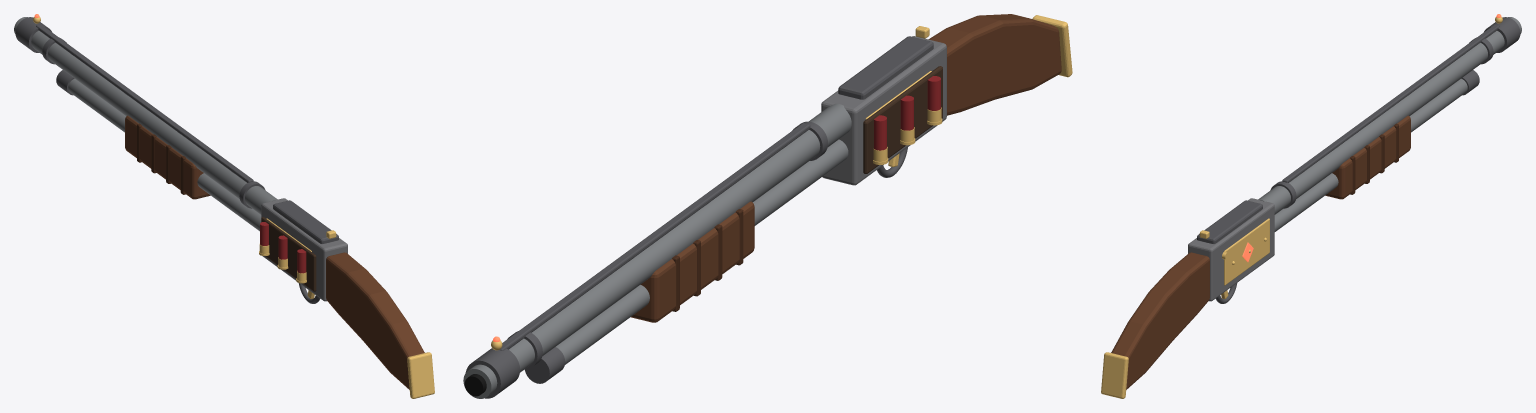
File: shotgun.glb
The picture shows the model from 3 angles, left to right: view 1: azimuth 30°, elevation 25°; view 2: azimuth 150°, elevation 25°; view 3: azimuth 330°, elevation 25°; orthographic projection. The views are drawn at different scales.
Visible parts, largest first — view 1: Stock, Barrel, PumpSlide, MagTube, Receiver, Rib, ShellStrap, ReceiverTop, ButtPlate, MuzzleCollar; view 2: Barrel, Stock, PumpSlide, MagTube, Receiver, Rib, ShellStrap, ReceiverTop, MuzzleCollar, MagCap, ButtPlate; view 3: Stock, Barrel, PumpSlide, Receiver, MagTube, Rib, SidePlate.001, ReceiverTop, ButtPlate, MuzzleCollar.
Part boxes in pixels (box(x1,y1,x2,y2)): Stock: box(326, 252, 424, 389); Barrel: box(14, 17, 277, 214); PumpSlide: box(125, 115, 210, 199); MagTube: box(68, 78, 261, 231); Receiver: box(261, 198, 347, 301); Rib: box(36, 24, 253, 182); ShellStrap: box(261, 217, 316, 291); ReceiverTop: box(273, 200, 338, 243); ButtPlate: box(407, 352, 434, 398); MuzzleCollar: box(15, 17, 51, 52); Barrel: box(463, 103, 851, 398); Stock: box(928, 14, 1061, 115); PumpSlide: box(631, 201, 754, 322); MagTube: box(556, 139, 848, 364); Receiver: box(821, 36, 946, 185); Rib: box(499, 123, 810, 350); ShellStrap: box(863, 66, 942, 173); ReceiverTop: box(838, 36, 933, 99); MuzzleCollar: box(465, 348, 519, 398); MagCap: box(525, 347, 565, 383); ButtPlate: box(1032, 15, 1072, 77); Stock: box(1111, 252, 1209, 389); Barrel: box(1258, 17, 1521, 214); PumpSlide: box(1325, 115, 1410, 199); Receiver: box(1188, 198, 1274, 301); MagTube: box(1274, 78, 1467, 231); Rib: box(1282, 24, 1499, 182); SidePlate.001: box(1224, 218, 1269, 285); ReceiverTop: box(1197, 200, 1262, 243); ButtPlate: box(1101, 352, 1128, 398); MuzzleCollar: box(1484, 17, 1520, 52).
Bounding box in the file's own units: 0.0851 × 0.2071 × 1.51.
